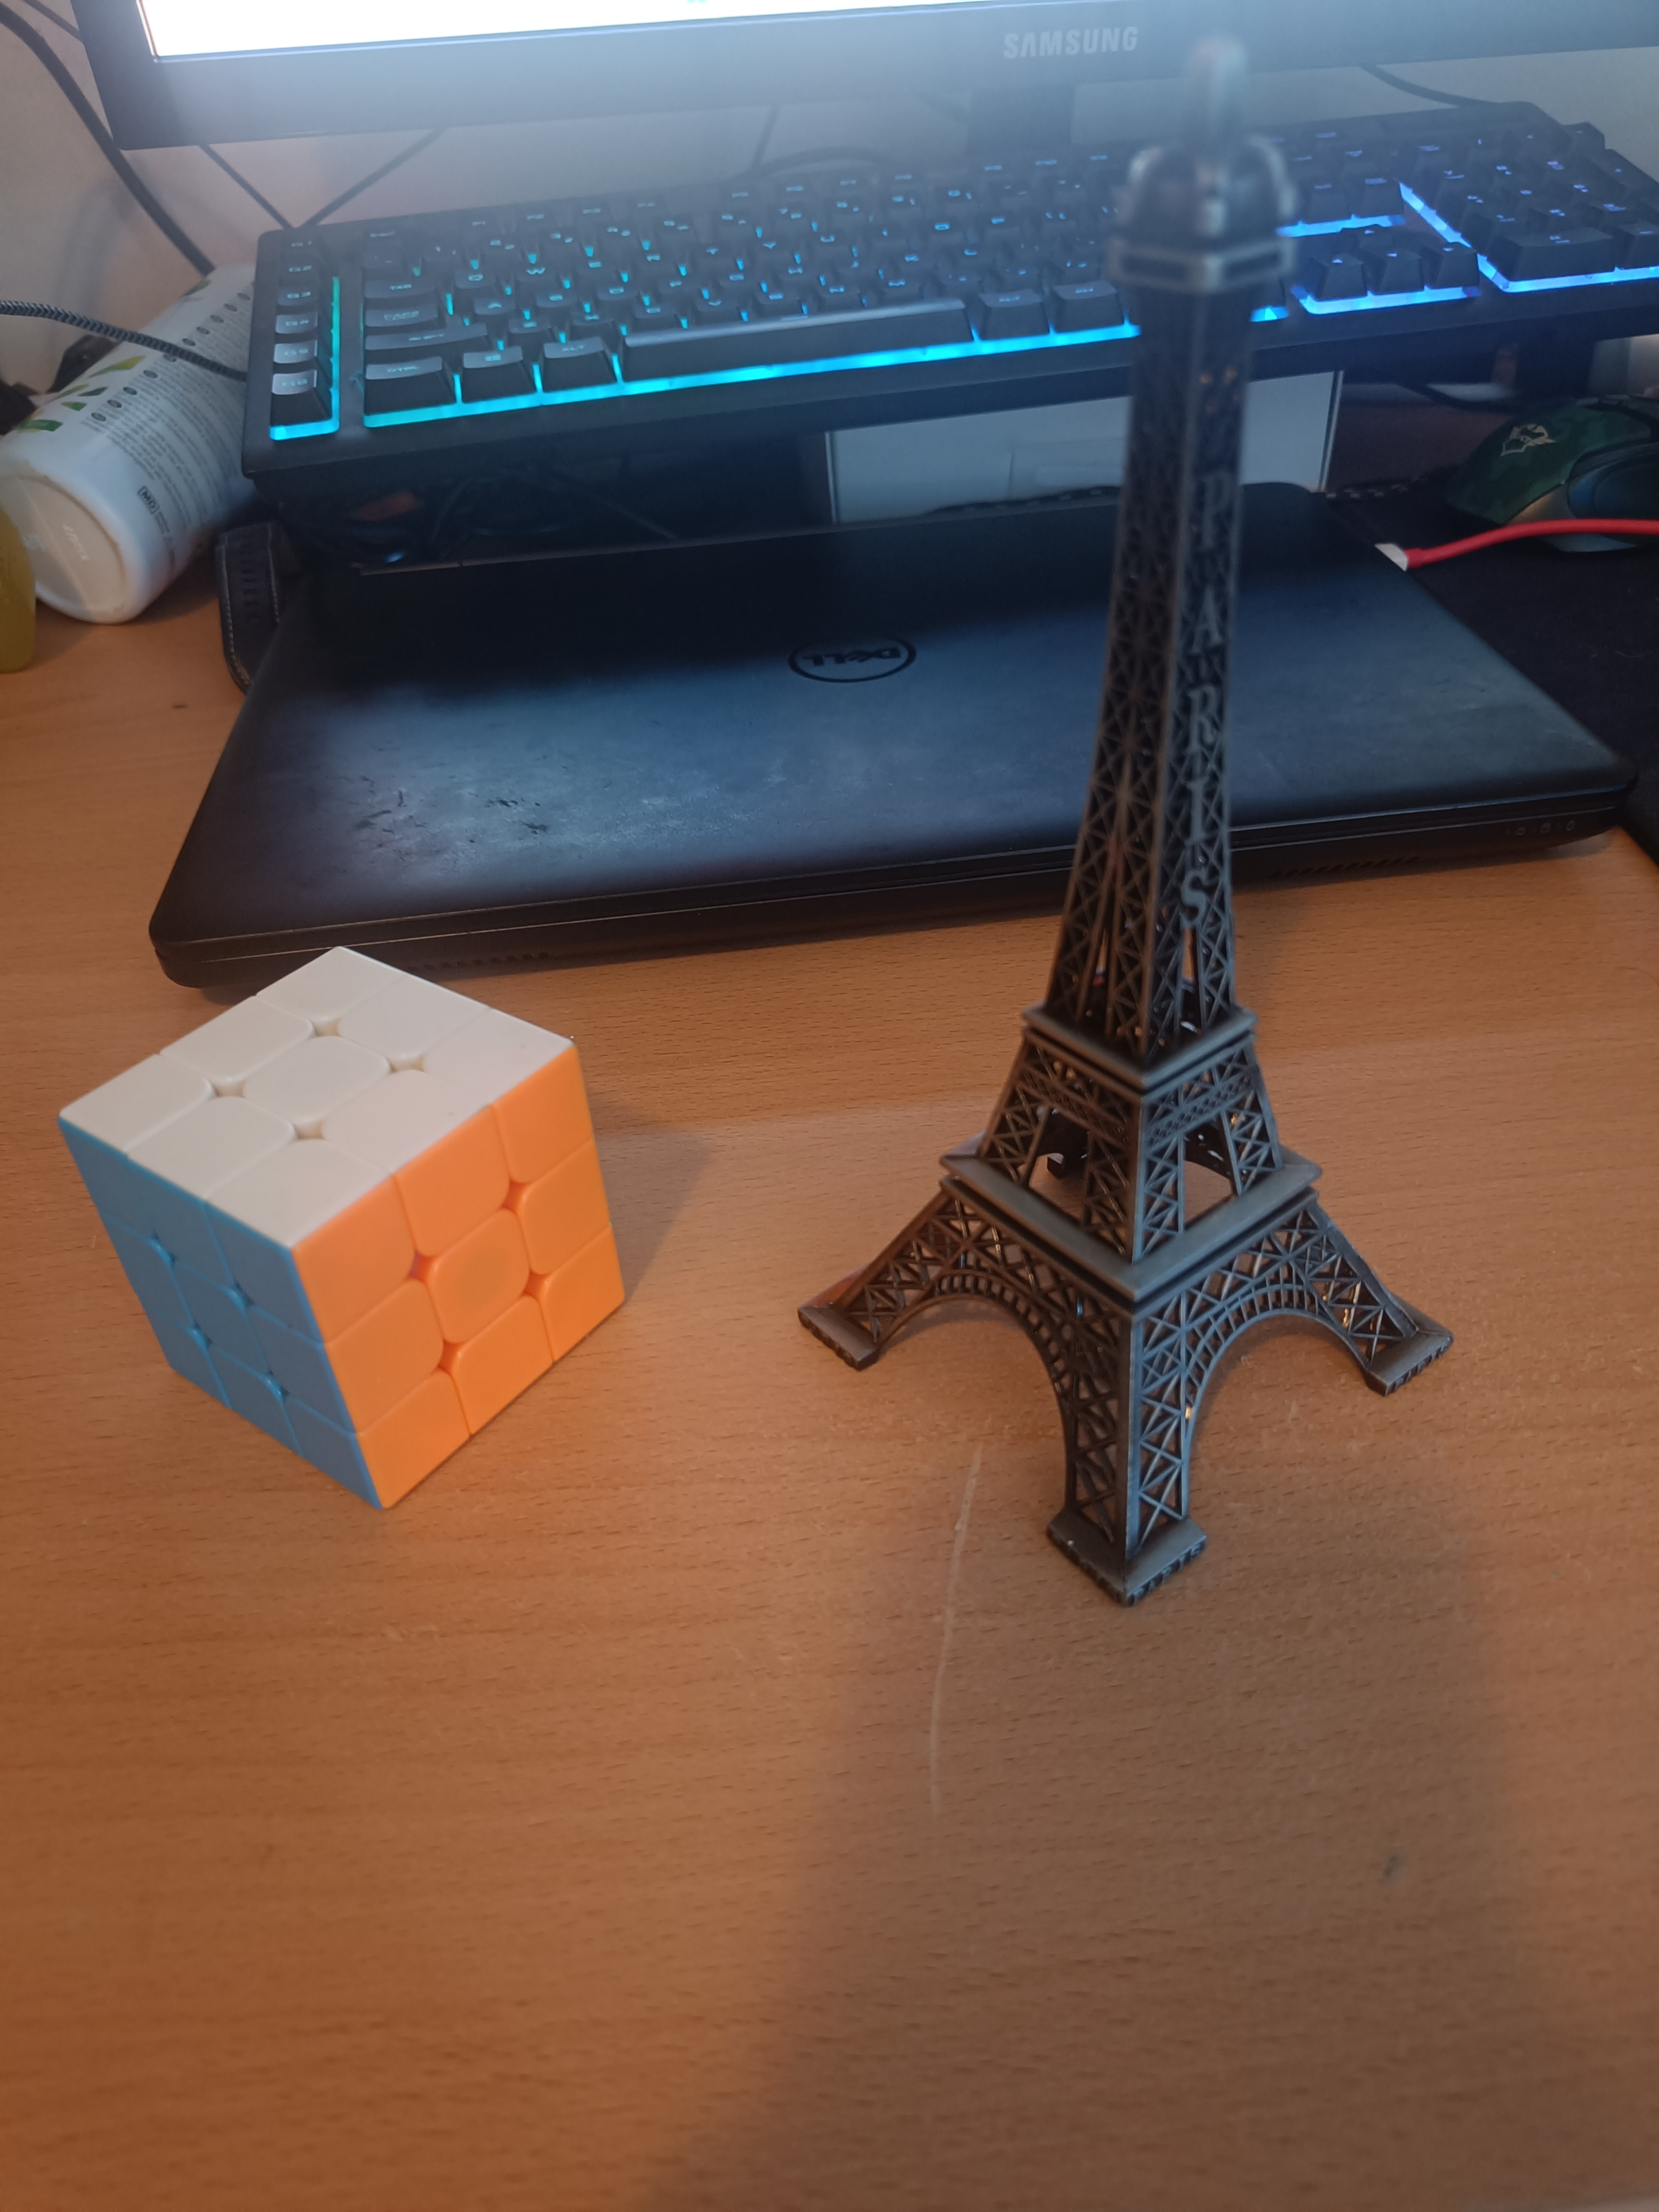Eiffel Tower: (786, 42, 1462, 1613)
Rubiks Cube: (52, 906, 640, 1521)
